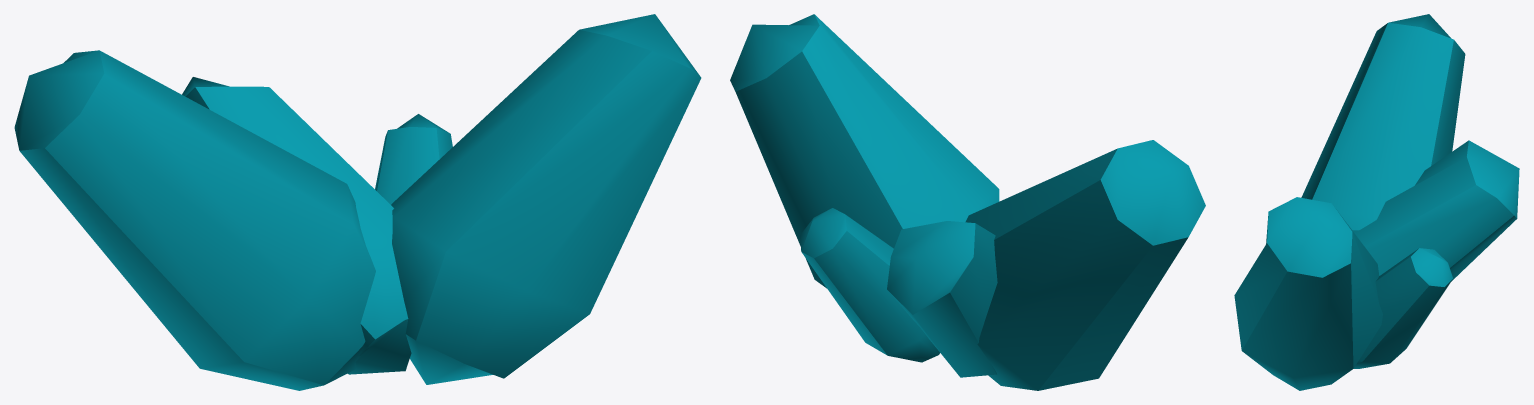
The model's file is Crystal_four.fbx.
3 views of the same model, side by side, from view 1: azimuth 30°, elevation 25°; view 2: azimuth 150°, elevation 25°; view 3: azimuth 270°, elevation 25° (orthographic). The views are drawn at different scales.
Visible parts, largest first — view 1: pCube15; view 2: pCube15; view 3: pCube15.
Part boxes in pixels (x1,y1,x2,y2): pCube15: (14,14,701,390); pCube15: (730,14,1205,390); pCube15: (1234,14,1519,390).
Bounding box in the file's own units: 1.99 × 1.09 × 1.14.
